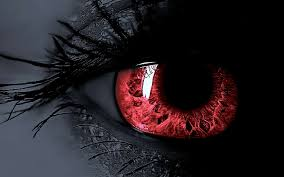e.other: (127, 62, 205, 140)
